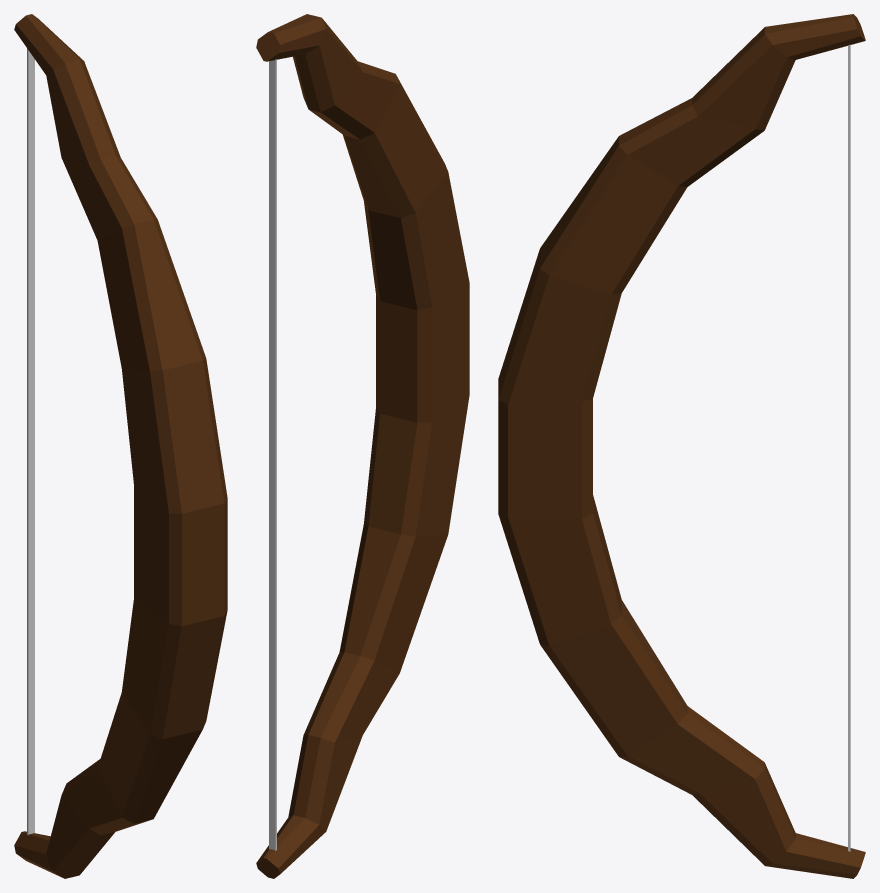
Rendered from arco.fbx.
The picture shows the model from 3 angles, left to right: view 1: azimuth 30°, elevation 25°; view 2: azimuth 150°, elevation 25°; view 3: azimuth 270°, elevation 25°; orthographic projection.
Visible parts, largest first — view 1: pCube5; view 2: pCube5; view 3: pCube5.
Part boxes in pixels (x1,y1,x2,y2): pCube5: (14, 14, 227, 878); pCube5: (256, 14, 469, 878); pCube5: (498, 14, 865, 878).
Bounding box in the file's own units: 8.47 × 116 × 44.92.
